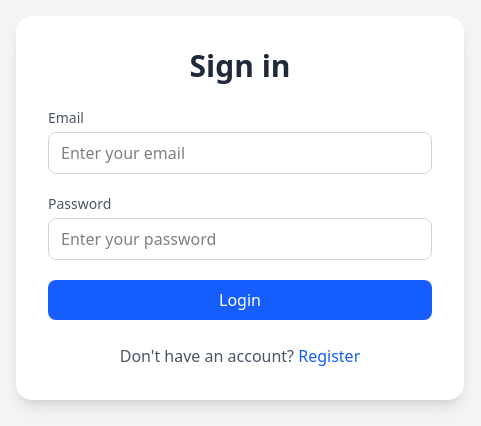
LoginPage › shows loading state on submit
The image size is (481, 426).
Type "test@example.com" into the field with placeholder "Enter your email".
click(240, 153); type("test@example.com")  # box [48,132,432,174]
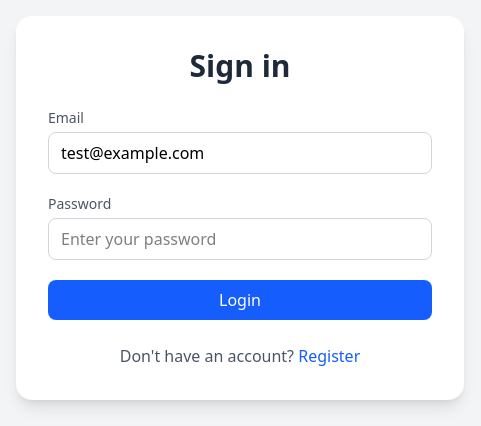
Type "password123" into the password field with placeholder "Enter your password".
click(240, 239); type("password123")  # box [48,218,432,260]
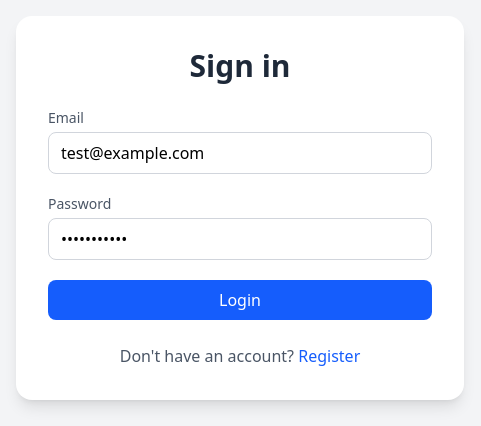
Click the button.
click(240, 300)  # box [48,280,432,320]
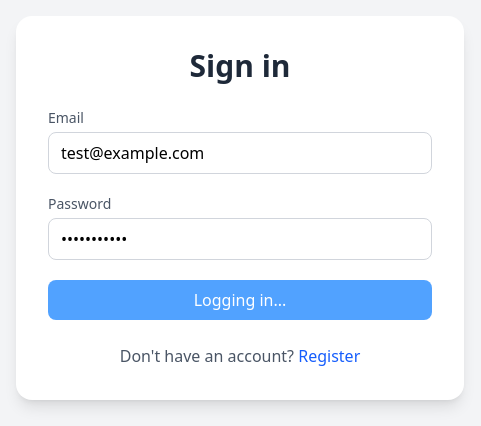
Expected: the button is disabled, [48,280,432,320]
